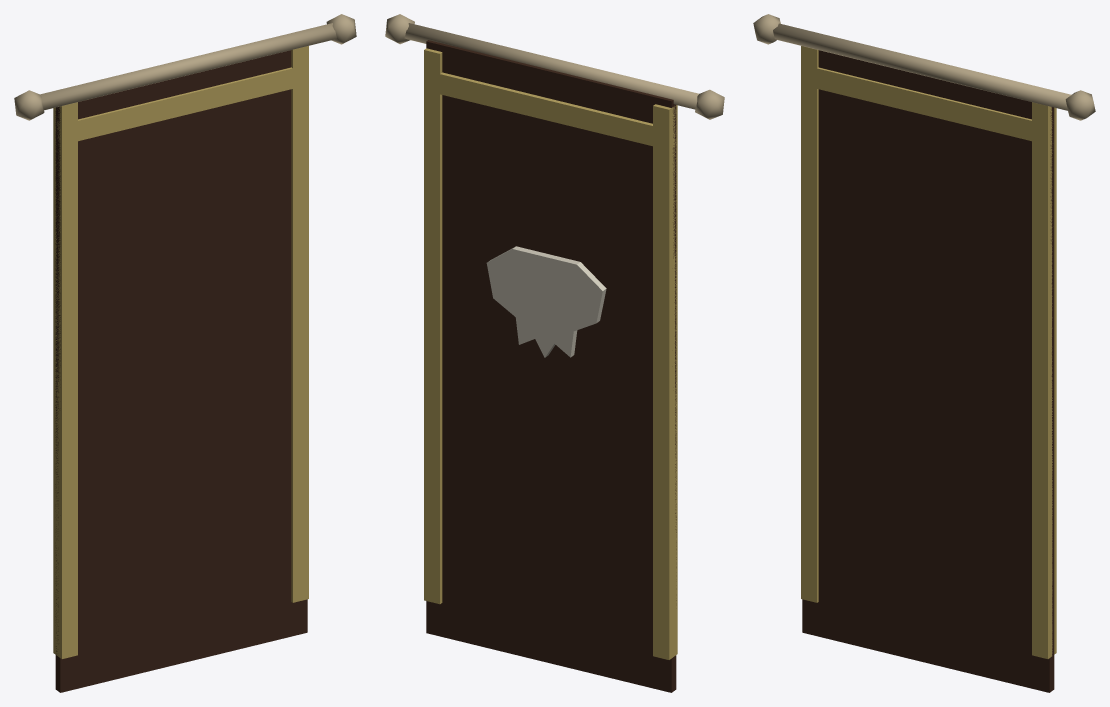
The model's file is dark_caster_banner_v0.glb.
The picture shows the model from 3 angles, left to right: view 1: azimuth 30°, elevation 25°; view 2: azimuth 150°, elevation 25°; view 3: azimuth 330°, elevation 25°; orthographic projection.
Parts seen in each view (by area): view 1: dark_caster_banner_v0; view 2: dark_caster_banner_v0; view 3: dark_caster_banner_v0.
Part boxes in pixels (x1,y1,x2,y2): dark_caster_banner_v0: (14,14,356,692); dark_caster_banner_v0: (385,14,724,692); dark_caster_banner_v0: (753,14,1095,692).
Size of the model in its own units: 1.04 by 1.8 by 0.0933.
